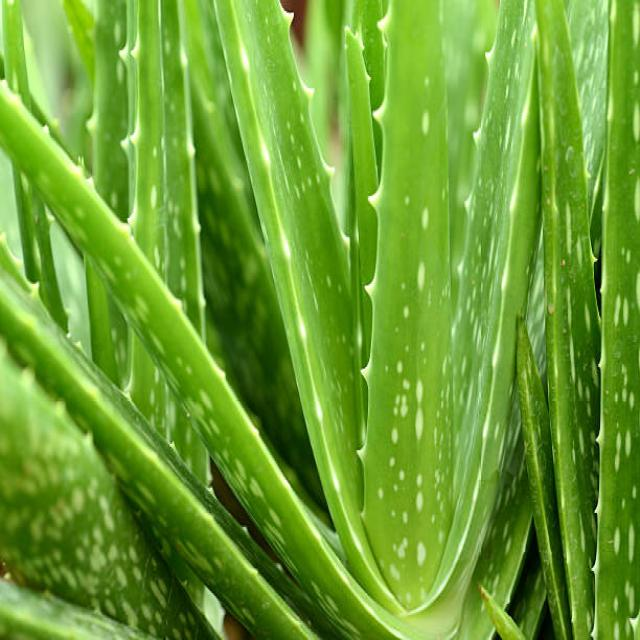AloeVera: (42, 44, 590, 580)
